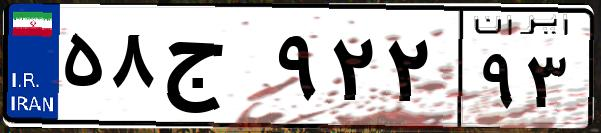2: (385, 28, 445, 110), (330, 28, 385, 110)
3: (525, 38, 570, 115)
5: (57, 26, 110, 100)
8: (110, 28, 158, 98)
9: (270, 28, 330, 110), (475, 38, 525, 113)
ج: (158, 20, 270, 120)
